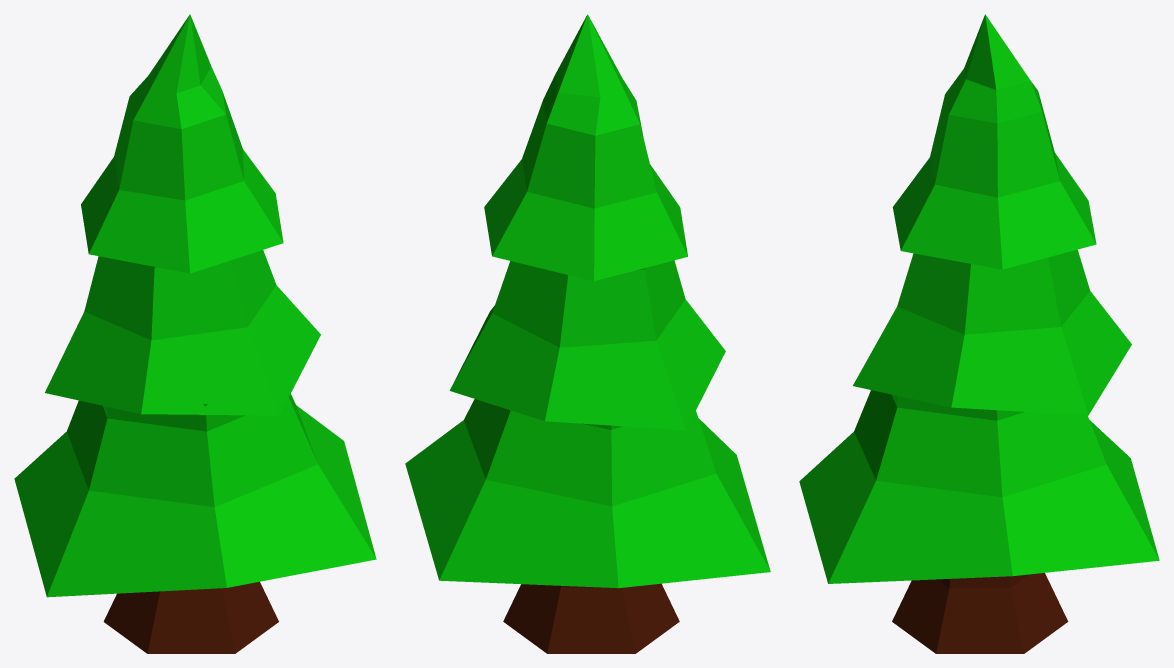
Rendered from PineTree.obj.
3 views of the same model, side by side, from view 1: azimuth 30°, elevation 25°; view 2: azimuth 150°, elevation 25°; view 3: azimuth 270°, elevation 25° (orthographic).
Parts seen in each view (by area): view 1: Cylinder.001, Cylinder.002, Cylinder.003, Cylinder; view 2: Cylinder.001, Cylinder.002, Cylinder.003, Cylinder; view 3: Cylinder.001, Cylinder.002, Cylinder.003, Cylinder.
Boxes of the visible parts, box(x1,y1,x2,y2) form: Cylinder.001: box(14, 393, 376, 597); Cylinder.002: box(45, 250, 320, 415); Cylinder.003: box(81, 14, 283, 273); Cylinder: box(103, 581, 278, 653); Cylinder.001: box(405, 399, 770, 588); Cylinder.002: box(449, 260, 725, 430); Cylinder.003: box(484, 14, 687, 281); Cylinder: box(503, 583, 679, 653); Cylinder.001: box(799, 390, 1159, 583); Cylinder.002: box(853, 249, 1131, 415); Cylinder.003: box(892, 14, 1096, 269); Cylinder: box(892, 573, 1068, 653).
Bounding box in the file's own units: 4.34 × 7.61 × 4.09.
